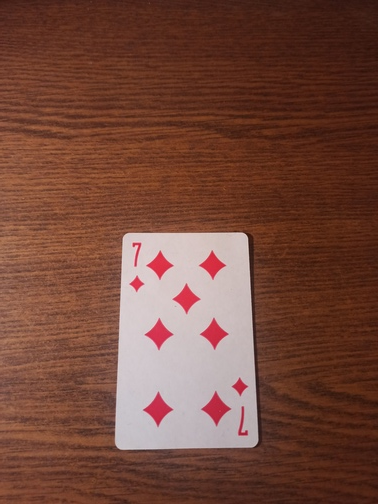sevendiamonds: (115, 231, 259, 448)
